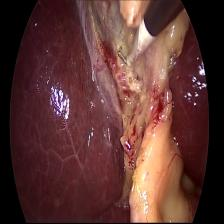Hook: (116, 14, 155, 74)
